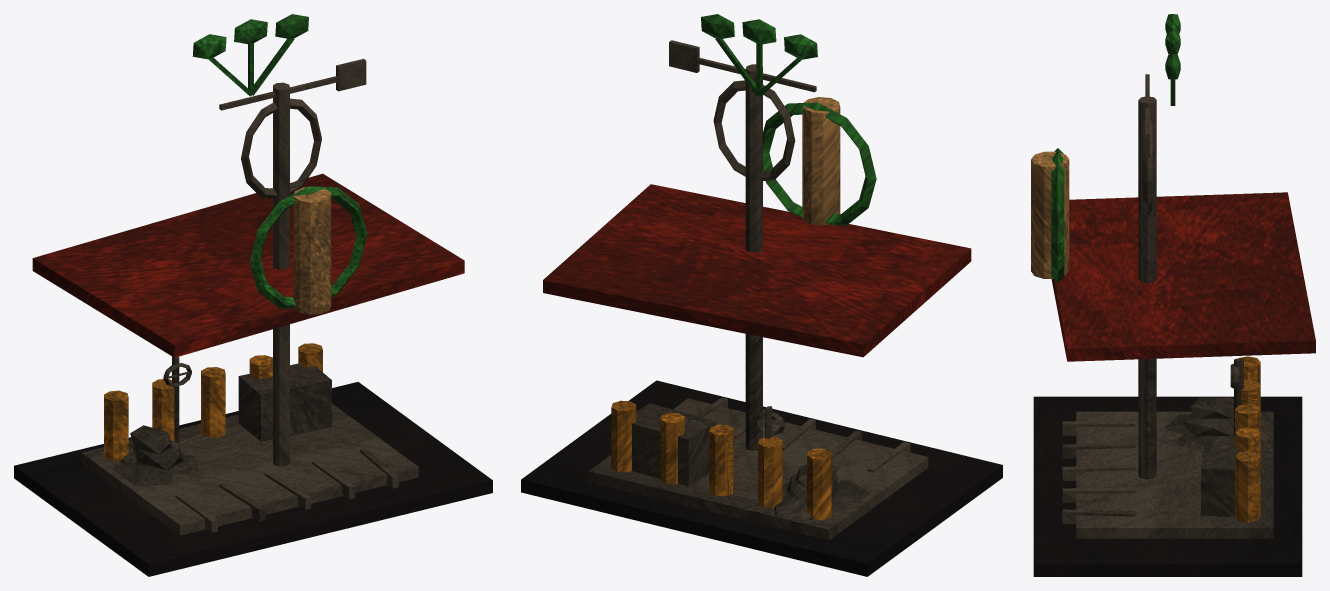
The model's file is east-seed-vault.glb.
3 renders of one model, left to right at view 1: azimuth 30°, elevation 25°; view 2: azimuth 150°, elevation 25°; view 3: azimuth 270°, elevation 25°, orthographic.
Parts seen in each view (by area): view 1: east-seed-vault; view 2: east-seed-vault; view 3: east-seed-vault.
Boxes of the visible parts, x1,y1,x2,y2 form: east-seed-vault: (14,14,492,576); east-seed-vault: (521,14,1002,576); east-seed-vault: (1031,14,1315,576).
Size of the model in its own units: 6.2 by 8 by 4.45.
Materials: 1 (1 with a texture image).
